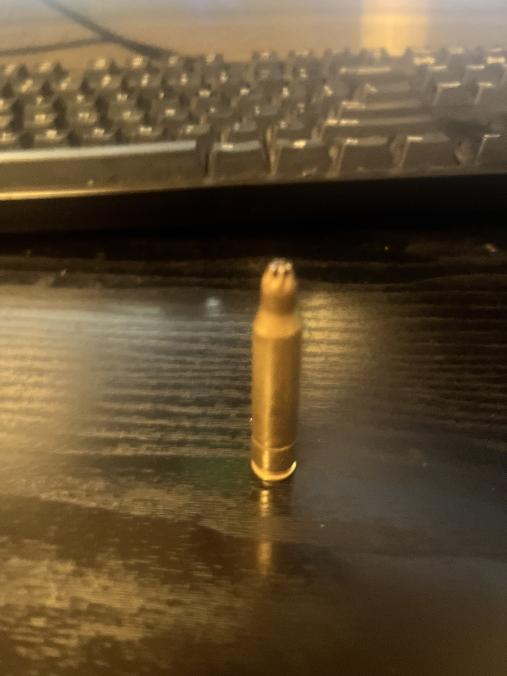556-unfired-blank: (249, 255, 306, 486)
